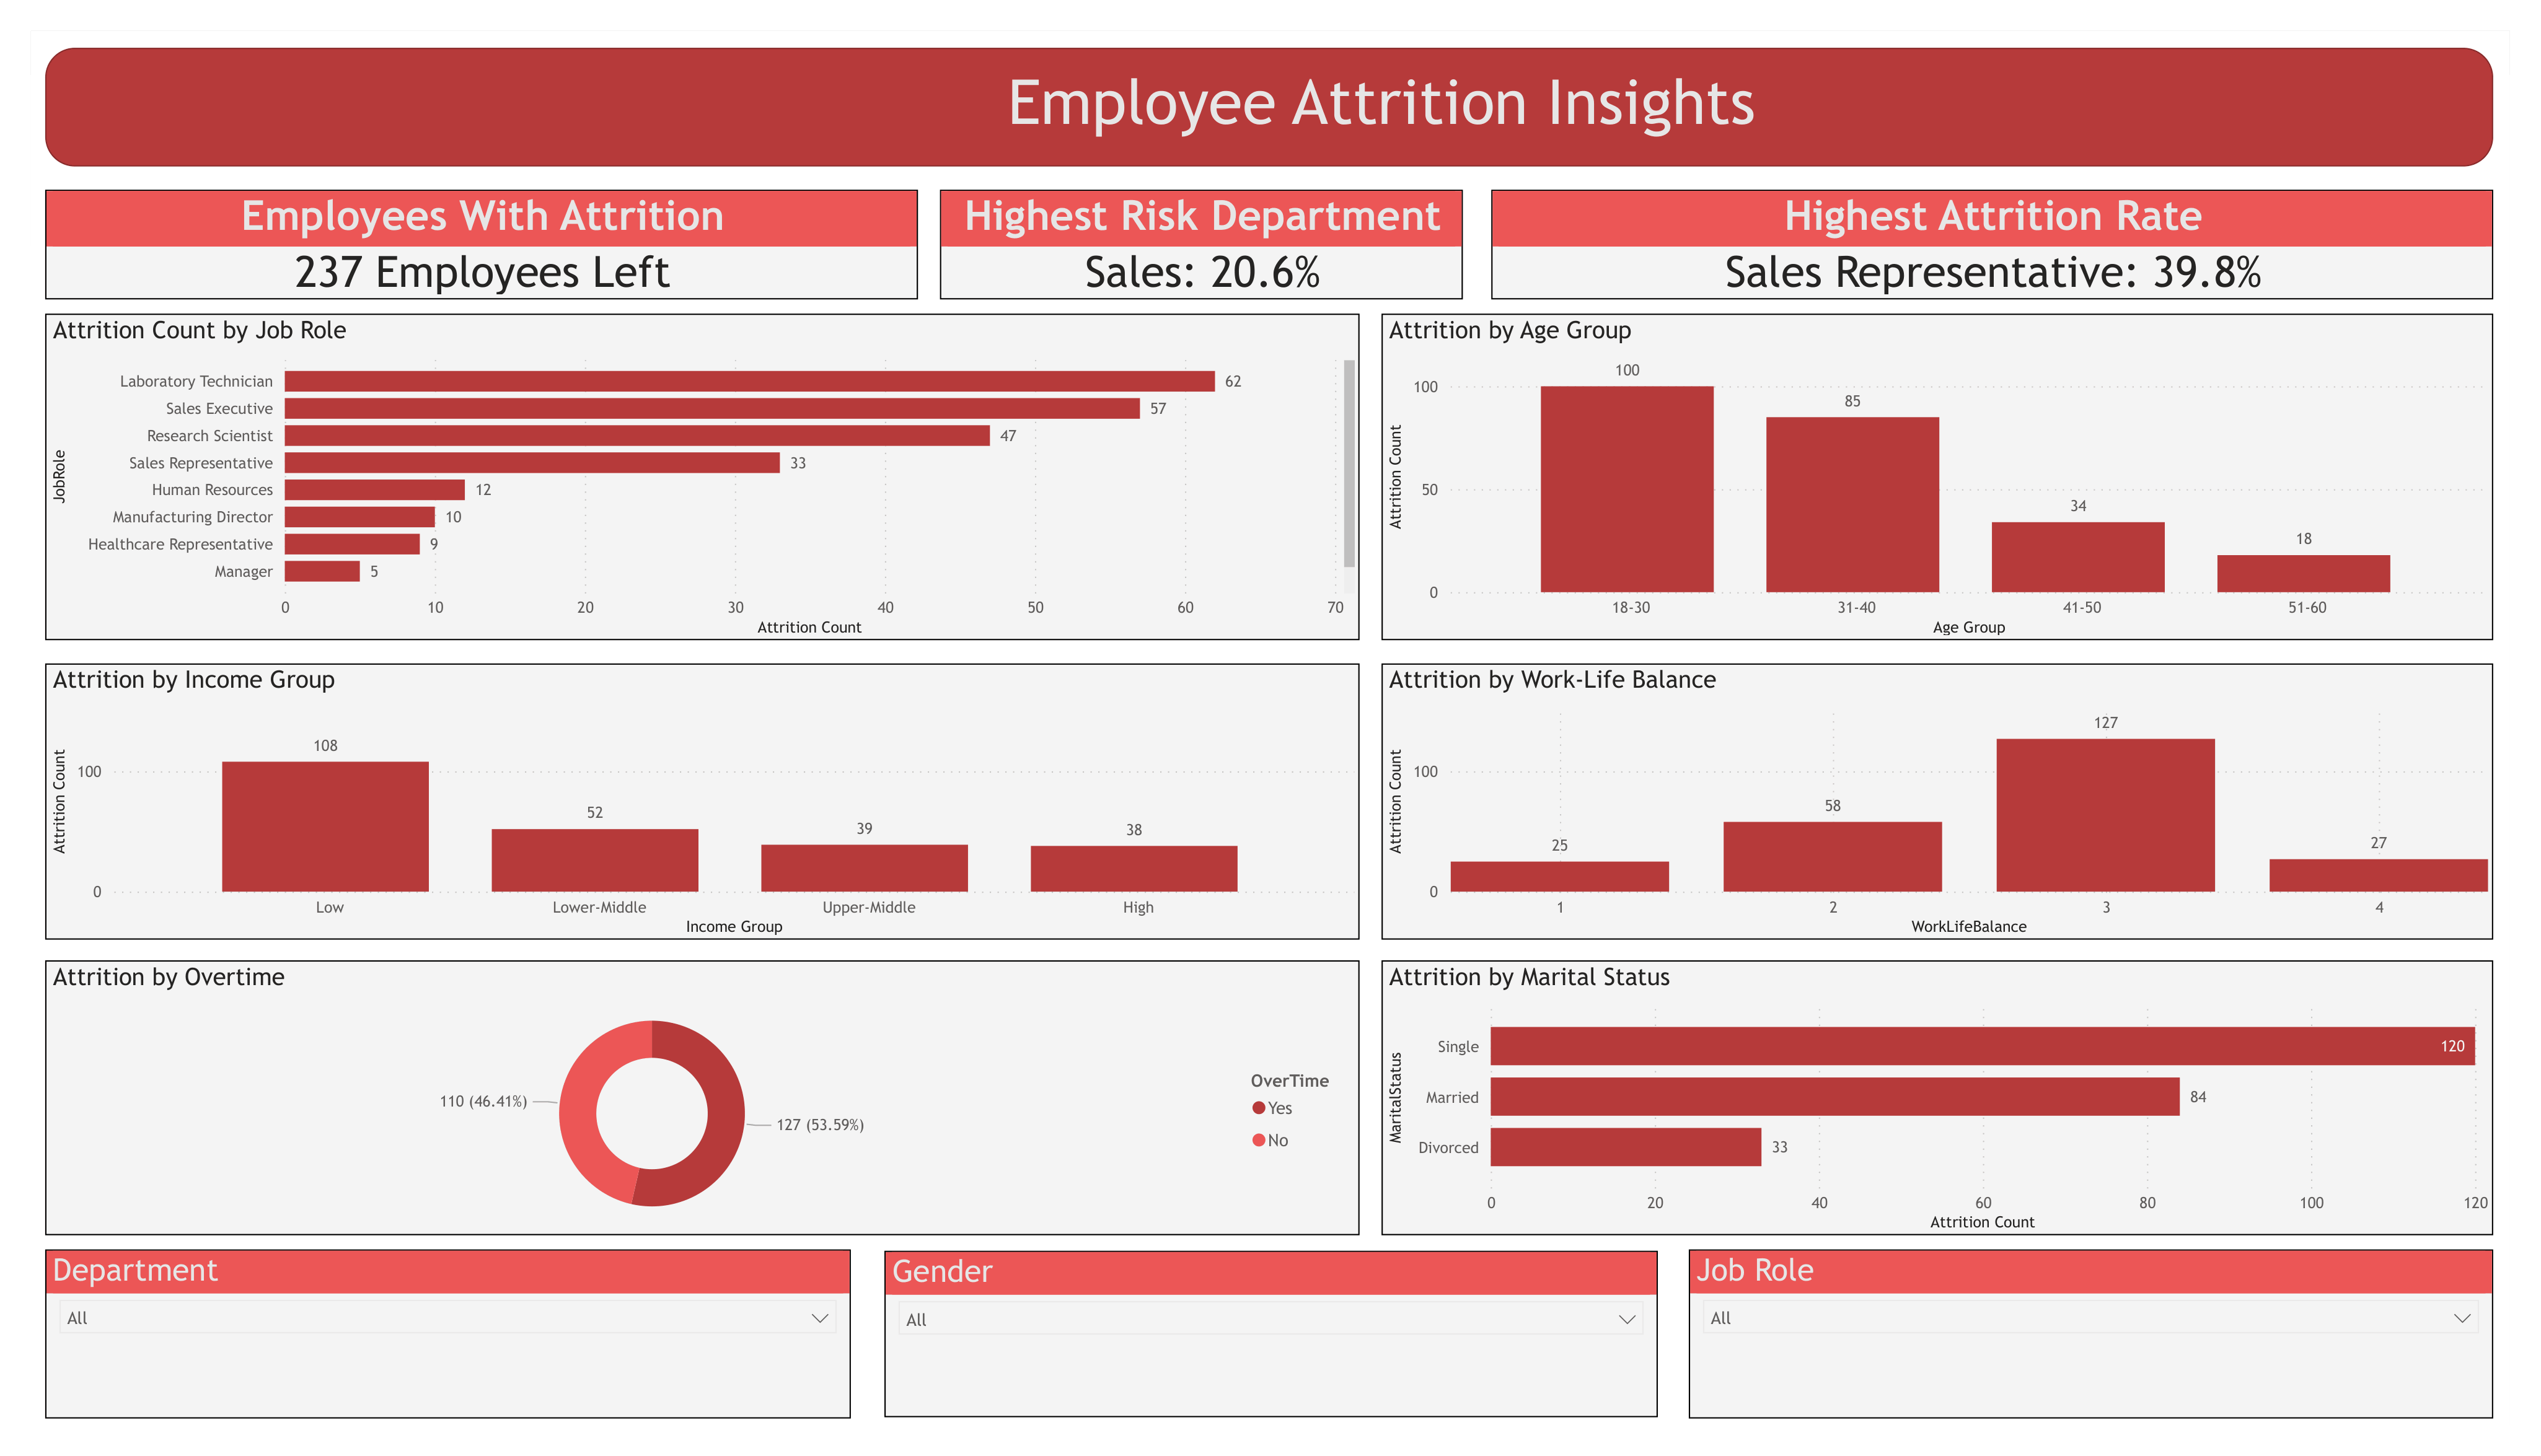

Layout of this report page (visuals, bound fields, positions):
{"tool":"powerbi","page":{"name":"Employee Insights","canvas":[1920,1080],"ordinal":1},"visuals":[{"type":"card","title":"Employees With Attrition","fields":{"Values":["clean_hr_attrition.Employees with Attrition"]},"box":[10.9,123,676.6,85],"z":0},{"type":"card","title":"Highest Risk Department","fields":{"Values":["clean_hr_attrition.Highest Risk Department"]},"box":[703.7,123,405.2,85],"z":1000},{"type":"card","title":"Highest Attrition Rate","fields":{"Values":["clean_hr_attrition.Highest Risk Job Role"]},"box":[1130.7,123,776.1,85],"z":2000},{"type":"barChart","title":"Attrition Count by Job Role","fields":{"Category":["clean_hr_attrition.JobRole"],"Y":["clean_hr_attrition.Attrition Count"]},"box":[10.9,218.9,1018.5,253.3],"z":3000},{"type":"clusteredColumnChart","title":"Attrition by Age Group","fields":{"Category":["clean_hr_attrition.Age Group"],"Y":["clean_hr_attrition.Attrition Count"]},"box":[1045.6,218.9,861.1,253.3],"z":4000},{"type":"columnChart","title":"Attrition by Income Group","fields":{"Category":["clean_hr_attrition.Income Group"],"Y":["clean_hr_attrition.Attrition Count"]},"box":[10.9,490.3,1018.5,213.5],"z":5000},{"type":"columnChart","title":"Attrition by Work-Life Balance","fields":{"Category":["clean_hr_attrition.WorkLifeBalance"],"Y":["clean_hr_attrition.Attrition Count"]},"box":[1045.6,490.3,861.1,213.5],"z":6000},{"type":"donutChart","title":"Attrition by Overtime","fields":{"Category":["clean_hr_attrition.OverTime"],"Y":["clean_hr_attrition.Attrition Count"]},"box":[10.9,720,1018.5,213.5],"z":7000},{"type":"barChart","title":"Attrition by Marital Status","fields":{"Category":["clean_hr_attrition.MaritalStatus"],"Y":["clean_hr_attrition.Attrition Count"]},"box":[1045.6,720,861.1,213.5],"z":8000},{"type":"slicer","title":"Department","fields":{"Values":["clean_hr_attrition.Department"]},"box":[10.9,944.3,624.1,130.3],"z":9000},{"type":"slicer","title":"Gender","fields":{"Values":["clean_hr_attrition.Gender"]},"box":[660.7,944.8,599,129.7],"z":10000},{"type":"slicer","title":"Job Role","fields":{"Values":["clean_hr_attrition.JobRole"]},"box":[1284.4,944.3,622.3,130.3],"z":11000},{"type":"shape","box":[10.9,12.7,1895.9,92.3],"z":12000},{"type":"textbox","box":[723.6,21.7,644,76],"z":13000}]}

Visuals, with their boxes in screenshot pixels (x1, y1, x2, y2):
"Employees With Attrition" card: [left=14, top=180, right=897, bottom=291]
"Highest Risk Department" card: [left=918, top=180, right=1447, bottom=291]
"Highest Attrition Rate" card: [left=1476, top=180, right=2489, bottom=291]
"Attrition Count by Job Role" barChart: [left=14, top=305, right=1344, bottom=636]
"Attrition by Age Group" clusteredColumnChart: [left=1365, top=305, right=2488, bottom=636]
"Attrition by Income Group" columnChart: [left=14, top=660, right=1344, bottom=938]
"Attrition by Work-Life Balance" columnChart: [left=1365, top=660, right=2488, bottom=938]
"Attrition by Overtime" donutChart: [left=14, top=959, right=1344, bottom=1238]
"Attrition by Marital Status" barChart: [left=1365, top=959, right=2488, bottom=1238]
"Department" slicer: [left=14, top=1252, right=829, bottom=1422]
"Gender" slicer: [left=862, top=1253, right=1644, bottom=1422]
"Job Role" slicer: [left=1676, top=1252, right=2488, bottom=1422]
shape: [left=14, top=37, right=2489, bottom=157]
textbox: [left=945, top=48, right=1785, bottom=147]
